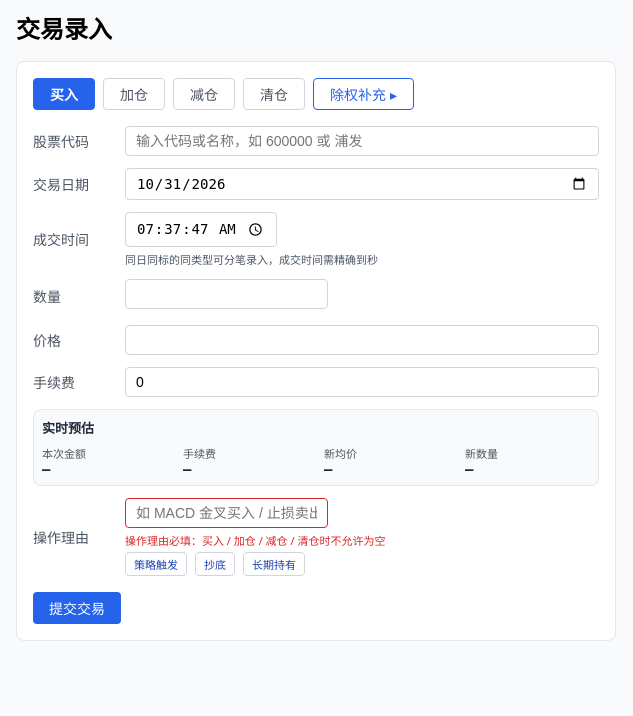
Test case: T68 ① · 交易类型 Tab 组与字段联动 › 「除权补充」是次级入口：点击后展开 分红 / 送股 / 转增 三个子类型
Click the tab "除权补充 ▸". click: (363,94)
box: left=313, top=78, right=414, bottom=110
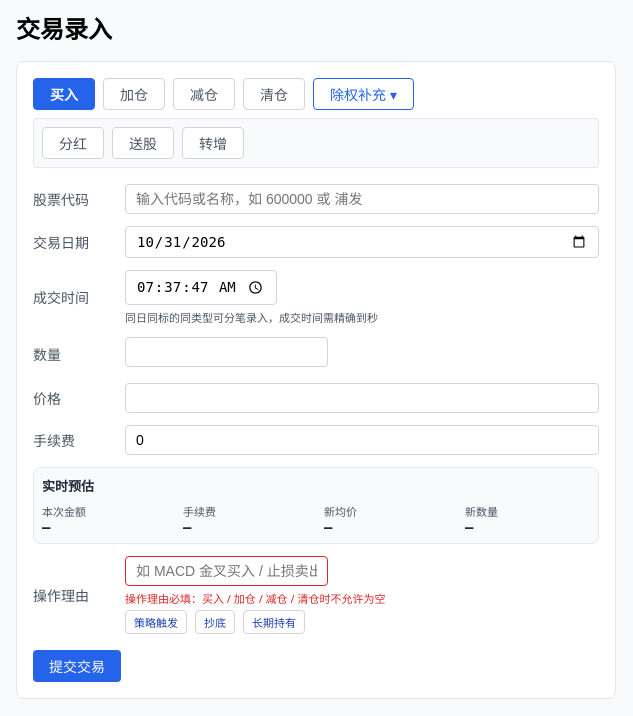
Result: the element with test id "trade-exdividend-panel" is shown at left=33, top=118, right=599, bottom=168
Result: the element with test id "trade-exdividend-panel" shows "分红" at left=42, top=127, right=104, bottom=159
Result: the element with test id "trade-exdividend-panel" shows "送股" at left=112, top=127, right=174, bottom=159
